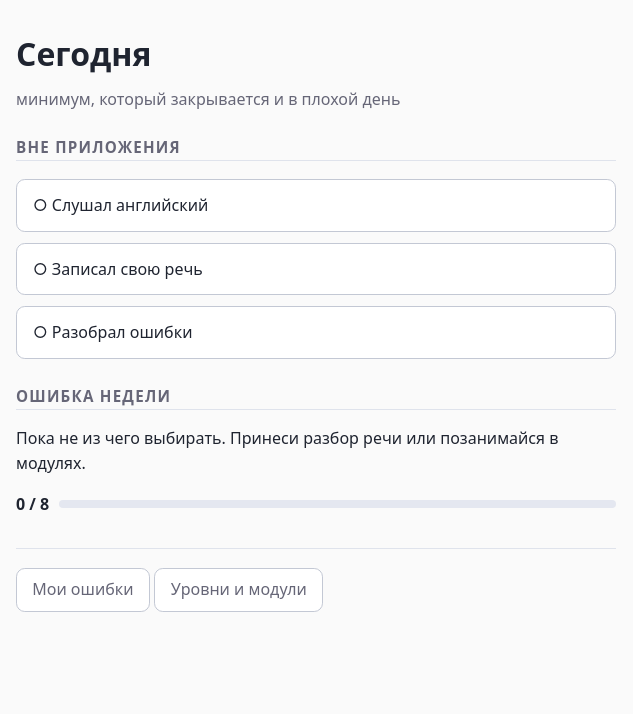
Test case: App › shows stored module progress in the list and inside training
The image size is (633, 714).
Click the button "Уровни и модули" at (239,590), box [154,568,323,612]
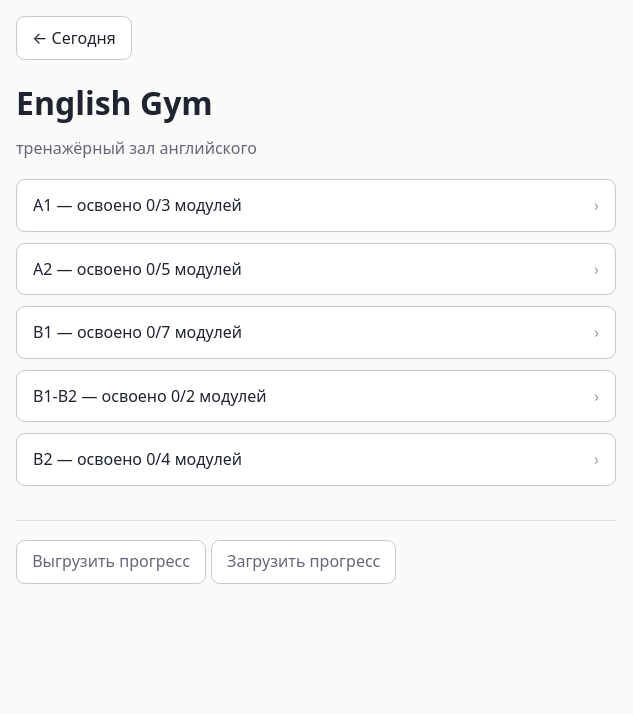
Click the button "B1 — освоено 0/7 модулей" at (99,332), box [16,306,616,359]
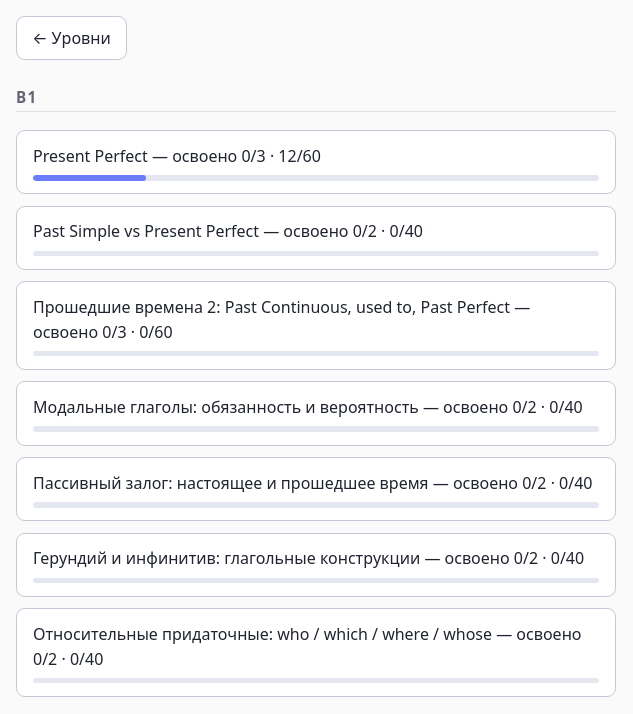
Result: the button "Present Perfect — освоено 0/3 · 12/60" is shown
Click the button "Present Perfect — освоено 0/3 · 12/60" at (316,162), box [16,130,616,194]
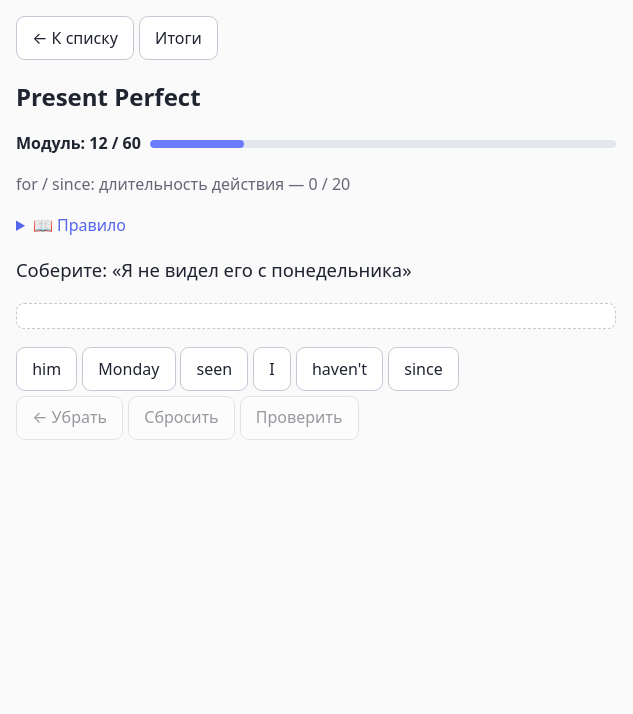
Result: the text "Модуль: 12 / 60" is shown at [16,131,141,156]
